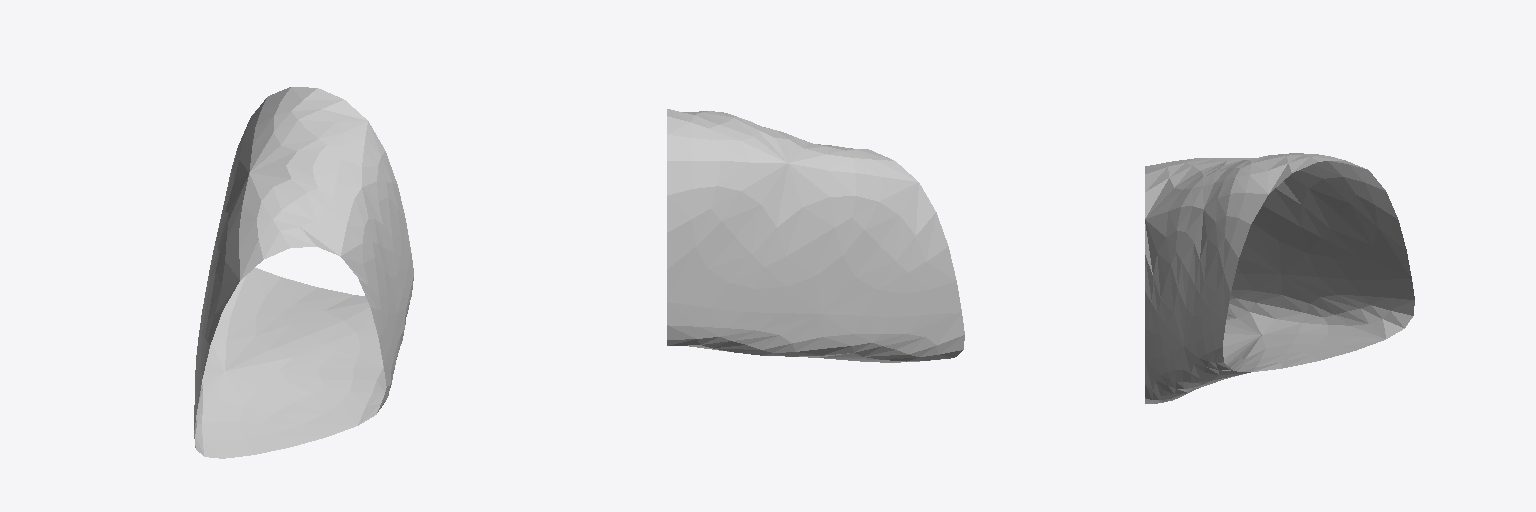
Rendered from cave_601r_2.obj.
3 renders of one model, left to right at view 1: azimuth 30°, elevation 25°; view 2: azimuth 150°, elevation 25°; view 3: azimuth 270°, elevation 25°, orthographic.
Visible parts, largest first — view 1: cave_601r_2_Cube.041; view 2: cave_601r_2_Cube.041; view 3: cave_601r_2_Cube.041.
Part boxes in pixels (bbox=[...]): cave_601r_2_Cube.041: bbox=[194, 87, 413, 458]; cave_601r_2_Cube.041: bbox=[667, 109, 964, 362]; cave_601r_2_Cube.041: bbox=[1145, 153, 1414, 403].
Bounding box in the file's own units: 7.9 × 7.81 × 7.14.